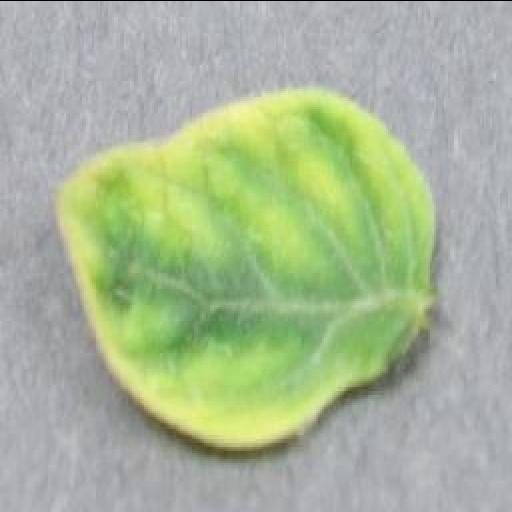disease_tomato: (52, 86, 438, 452)
